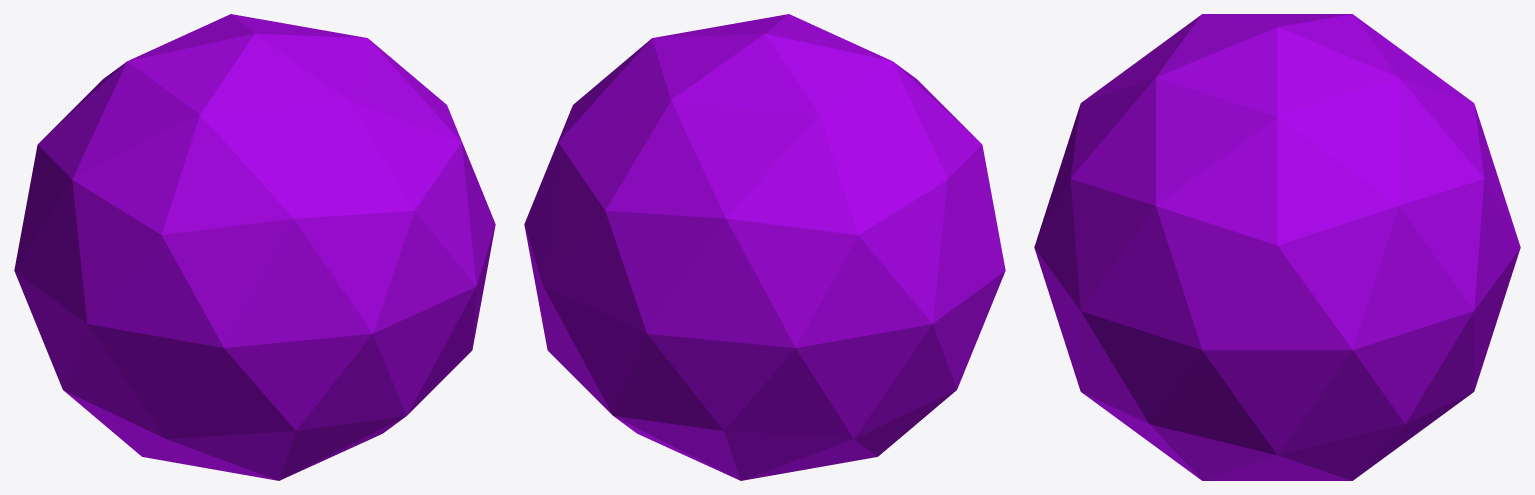
The model's file is 紫色小球.fbx.
3 views of the same model, side by side, from view 1: azimuth 30°, elevation 25°; view 2: azimuth 150°, elevation 25°; view 3: azimuth 270°, elevation 25° (orthographic). The views are drawn at different scales.
Parts seen in each view (by area): view 1: 棱角球; view 2: 棱角球; view 3: 棱角球.
Part boxes in pixels (x1,y1,x2,y2): 棱角球: (14,14,495,480); 棱角球: (524,14,1005,480); 棱角球: (1034,14,1520,480).
Size of the model in its own units: 20 by 20 by 20.
